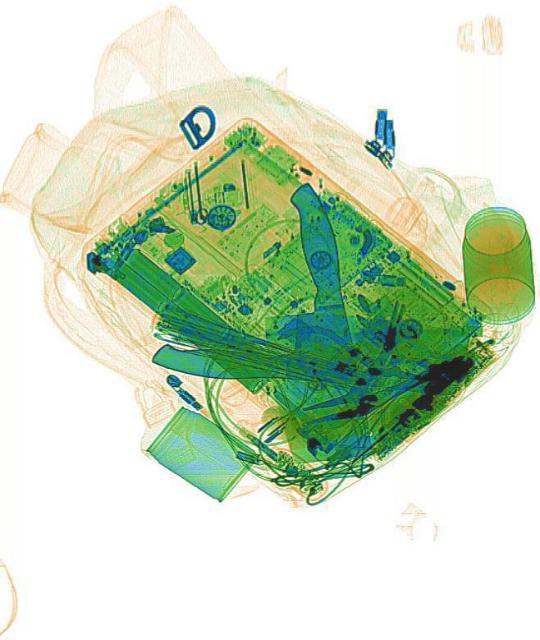Knife: (235, 178, 377, 472), (153, 302, 467, 393)
